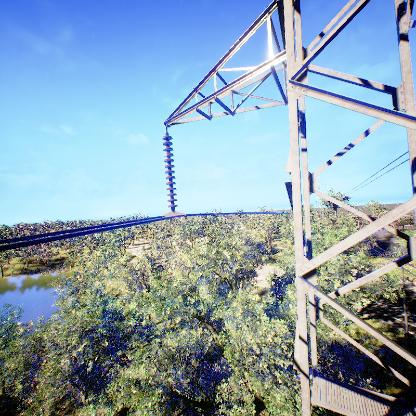insulator: (161, 133, 178, 212)
